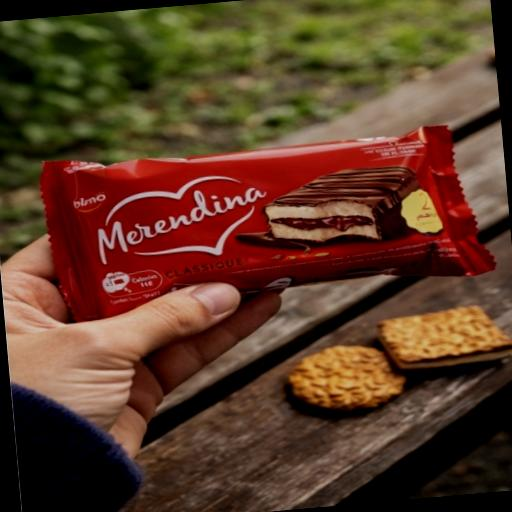merendina: (24, 98, 506, 358)
